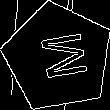M_W: (29, 30, 87, 85)
